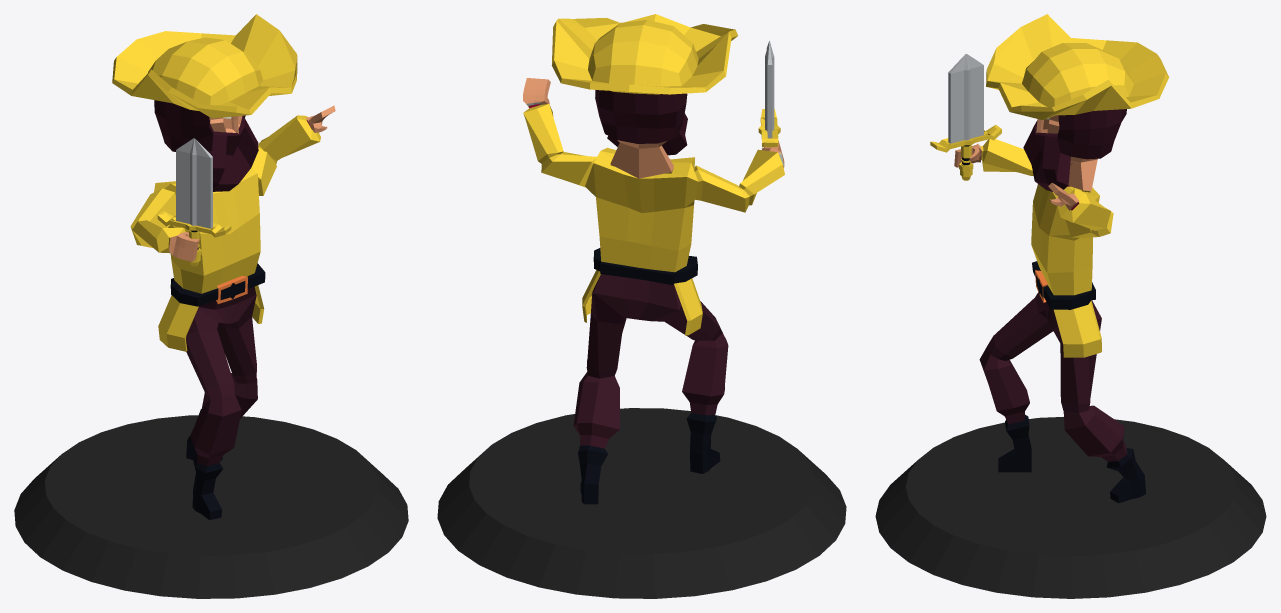
Rendered from Pirata Gold.fbx.
The picture shows the model from 3 angles, left to right: view 1: azimuth 30°, elevation 25°; view 2: azimuth 150°, elevation 25°; view 3: azimuth 270°, elevation 25°; orthographic projection. The views are drawn at different scales.
Visible parts, largest first — view 1: Cilindro, Cubo.001, Cilindro.001; view 2: Cilindro, Cubo.001, Cilindro.001; view 3: Cilindro, Cubo.001, Cilindro.001.
Boxes of the visible parts, x1,y1,x2,y2 form: Cilindro: [14, 415, 408, 598]; Cubo.001: [112, 14, 335, 519]; Cilindro.001: [157, 138, 231, 266]; Cilindro: [437, 408, 846, 598]; Cubo.001: [523, 14, 784, 504]; Cilindro.001: [758, 40, 780, 147]; Cilindro: [875, 417, 1266, 598]; Cubo.001: [954, 14, 1169, 503]; Cilindro.001: [930, 54, 1001, 180].
Size of the model in its own units: 154 by 203 by 154.
